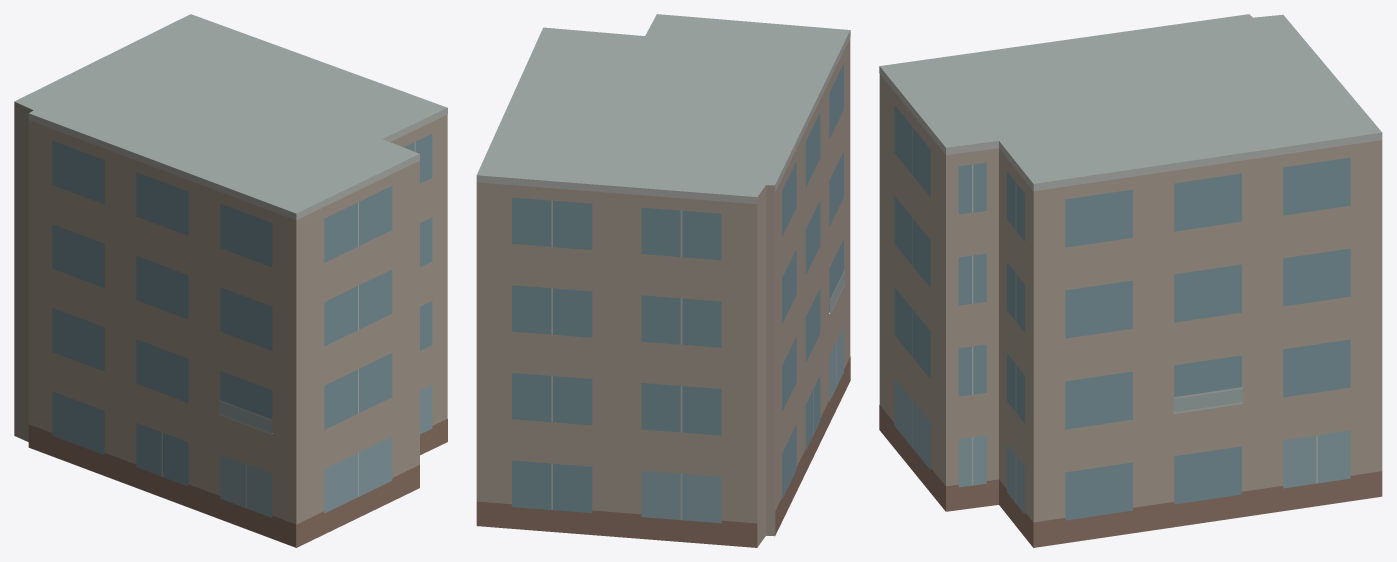
File: survey-upis-33018752.glb
The picture shows the model from 3 angles, left to right: view 1: azimuth 30°, elevation 25°; view 2: azimuth 150°, elevation 25°; view 3: azimuth 270°, elevation 25°; orthographic projection. The views are drawn at different scales.
Visible parts, largest first — view 1: survey-upis-33018752.tmp; view 2: survey-upis-33018752.tmp; view 3: survey-upis-33018752.tmp.
Part boxes in pixels (x1,y1,x2,y2): survey-upis-33018752.tmp: (14, 14, 447, 547); survey-upis-33018752.tmp: (476, 14, 850, 547); survey-upis-33018752.tmp: (879, 14, 1382, 547).
Bounding box in the file's own units: 12.13 × 12.1 × 15.17.
